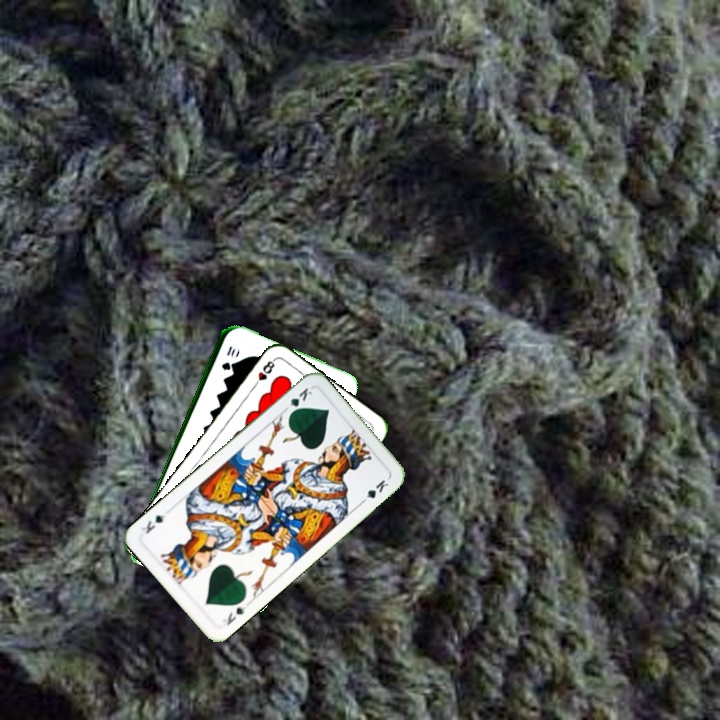G10: (217, 342, 238, 373)
GK: (280, 383, 315, 418), (218, 599, 251, 628)
H8: (249, 355, 278, 390)
